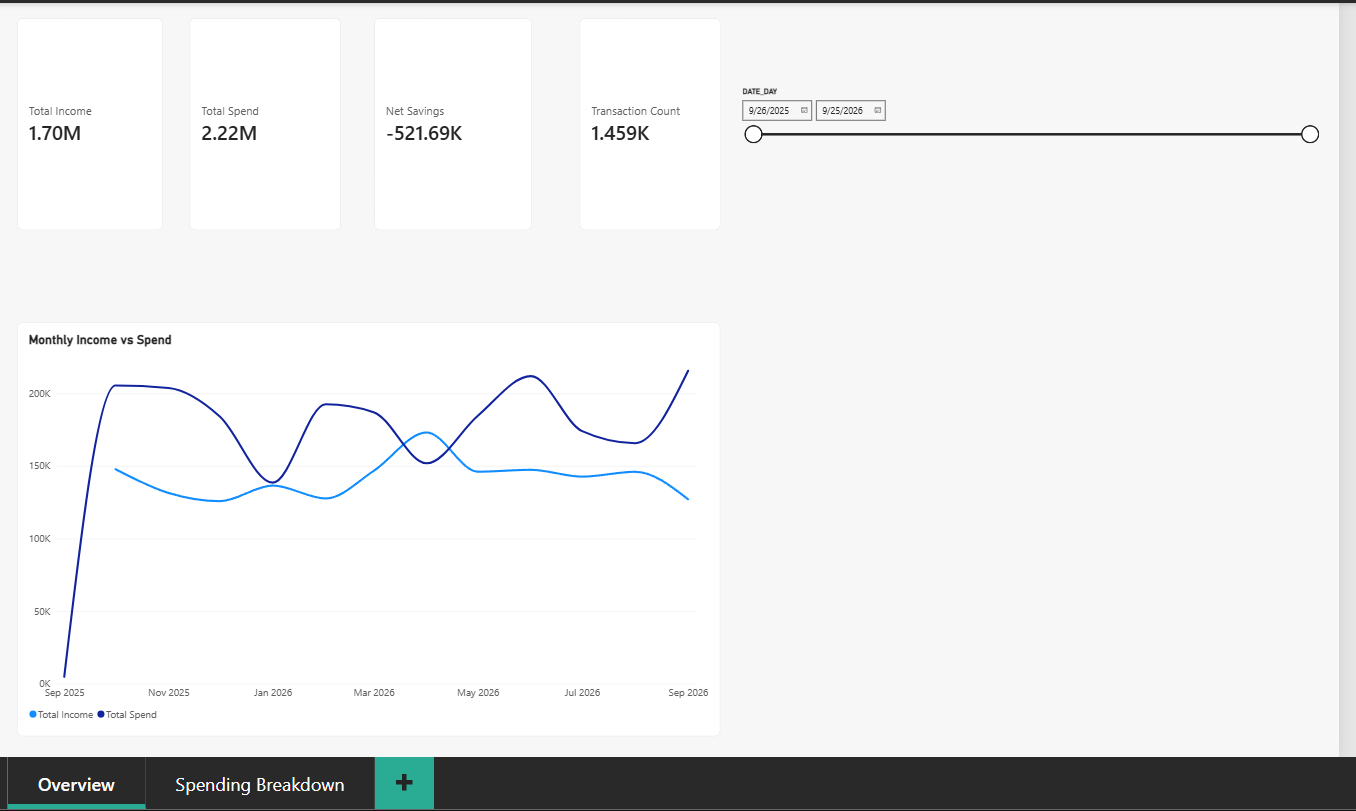

The dashboard page shown, as its layout file describes it:
{"tool":"powerbi","page":{"name":"Overview","canvas":[1920,1080],"ordinal":0},"visuals":[{"type":"cardVisual","fields":{"Data":["_Measures.Total Income"]},"box":[26.8,22,209.8,305],"z":0},{"type":"cardVisual","fields":{"Data":["_Measures.Transaction Count"]},"box":[832,22,202.5,305],"z":1000},{"type":"cardVisual","fields":{"Data":["_Measures.Net Savings"]},"box":[536.8,22,226.9,305],"z":2000},{"type":"cardVisual","fields":{"Data":["_Measures.Total Spend"]},"box":[273.3,22,217.1,305],"z":3000},{"type":"lineChart","title":"Monthly Income vs Spend","fields":{"Category":["DIM_DATE.DATE_DAY.Variation.Date Hierarchy.Year","DIM_DATE.DATE_DAY.Variation.Date Hierarchy.Month"],"Y":["_Measures.Total Income","_Measures.Total Spend"]},"box":[26.8,458.7,1007.6,592.9],"z":4000},{"type":"slicer","fields":{"Values":["DIM_DATE.DATE_DAY"]},"box":[1056.4,119.6,836.9,114.7],"z":5000}]}

Visuals, with their boxes on the page's 1920x1080 design canvas (x1, y1, x2, y2). These are canvas units, not pixel positions in the 1356x811 screenshot, which may show the page scaled, cropped or inside an application window:
cardVisual - _Measures.Total Income: <bbox>27, 22, 237, 327</bbox>
cardVisual - _Measures.Transaction Count: <bbox>832, 22, 1034, 327</bbox>
cardVisual - _Measures.Net Savings: <bbox>537, 22, 764, 327</bbox>
cardVisual - _Measures.Total Spend: <bbox>273, 22, 490, 327</bbox>
"Monthly Income vs Spend" lineChart: <bbox>27, 459, 1034, 1052</bbox>
slicer - DIM_DATE.DATE_DAY: <bbox>1056, 120, 1893, 234</bbox>
